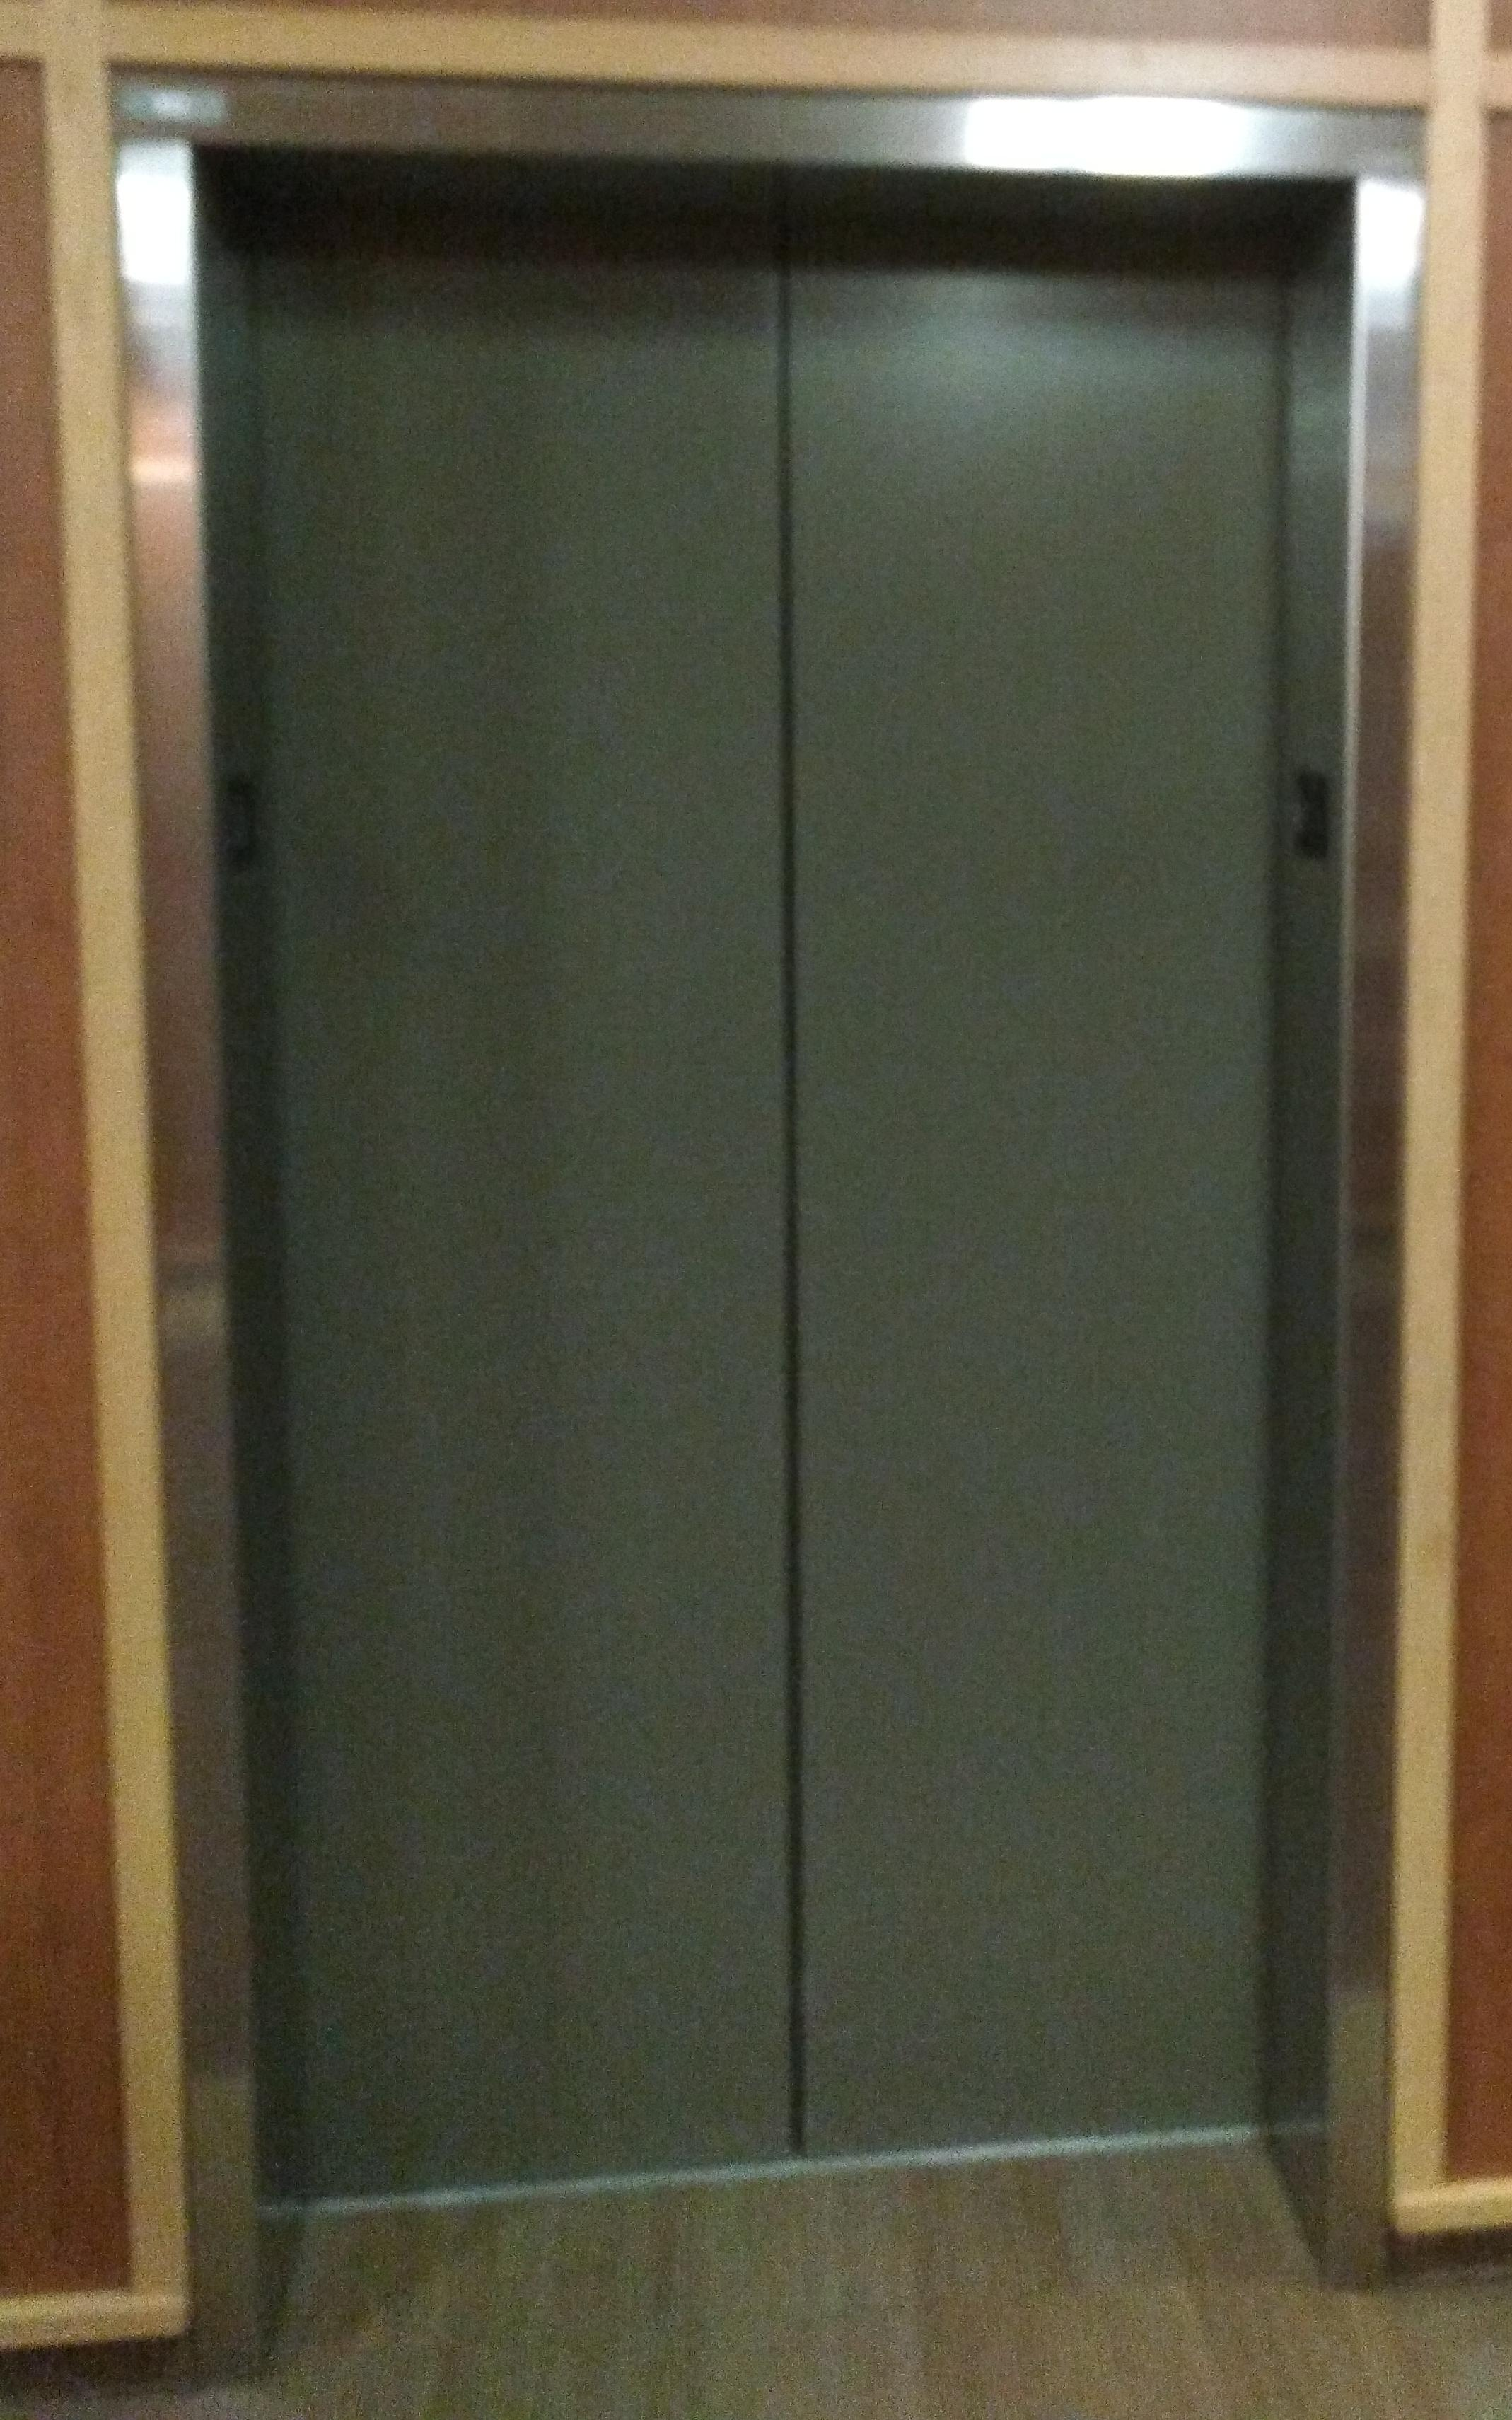door: (94, 44, 1449, 2253)
